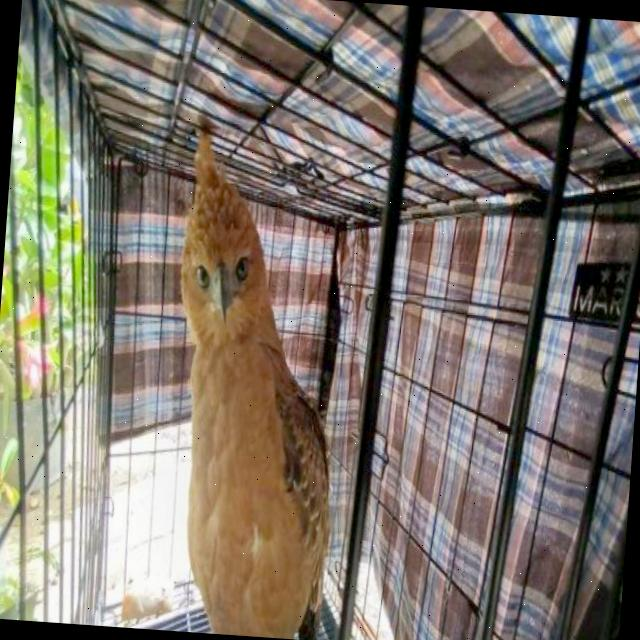Elang Jawa: (128, 66, 400, 640)
